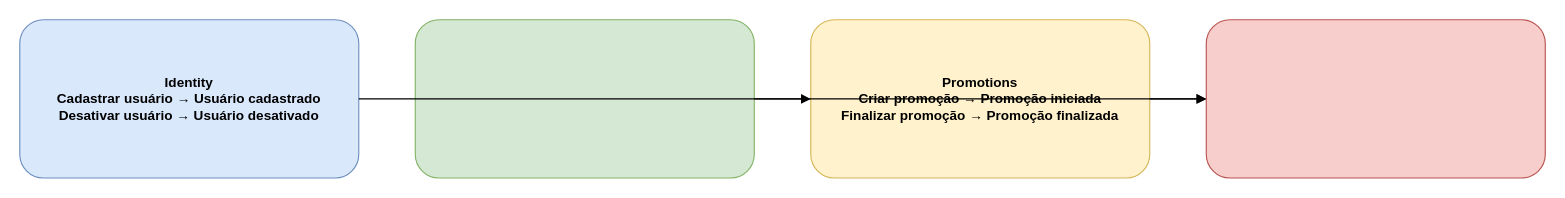
The diagram is 1565 pixels wide and 198 high, and some of its shapes have lost their labels. The shapes that lost their labels are listed below. From the top down, each one's box as (x1, y1, x2, y2) in pixels, then its label:
(414, 19, 754, 178): Catalog Cadastrar jogo → Jogo cadastrado Inativar jogo → Jogo inativado
(1205, 19, 1545, 178): Library Adquirir jogo → Jogo adicionado à biblioteca Impedir aquisição duplicada
